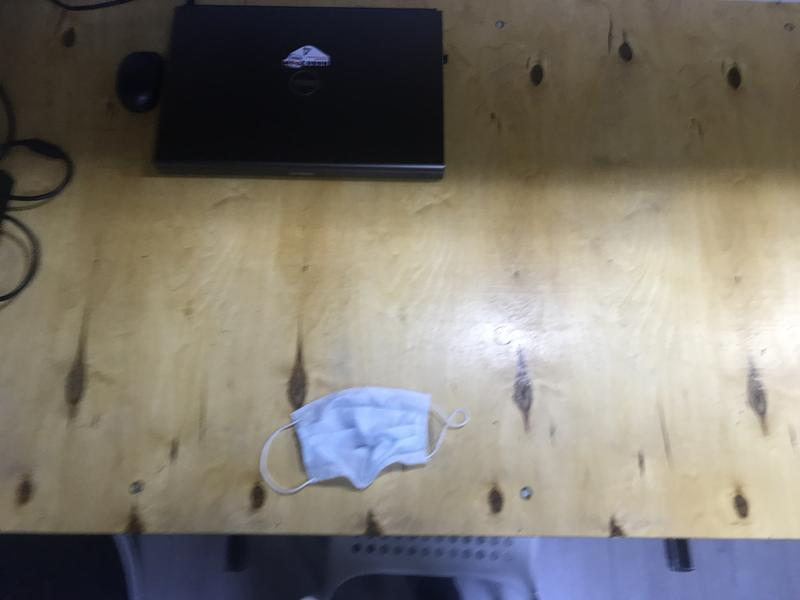medical_mask: (262, 388, 471, 494)
